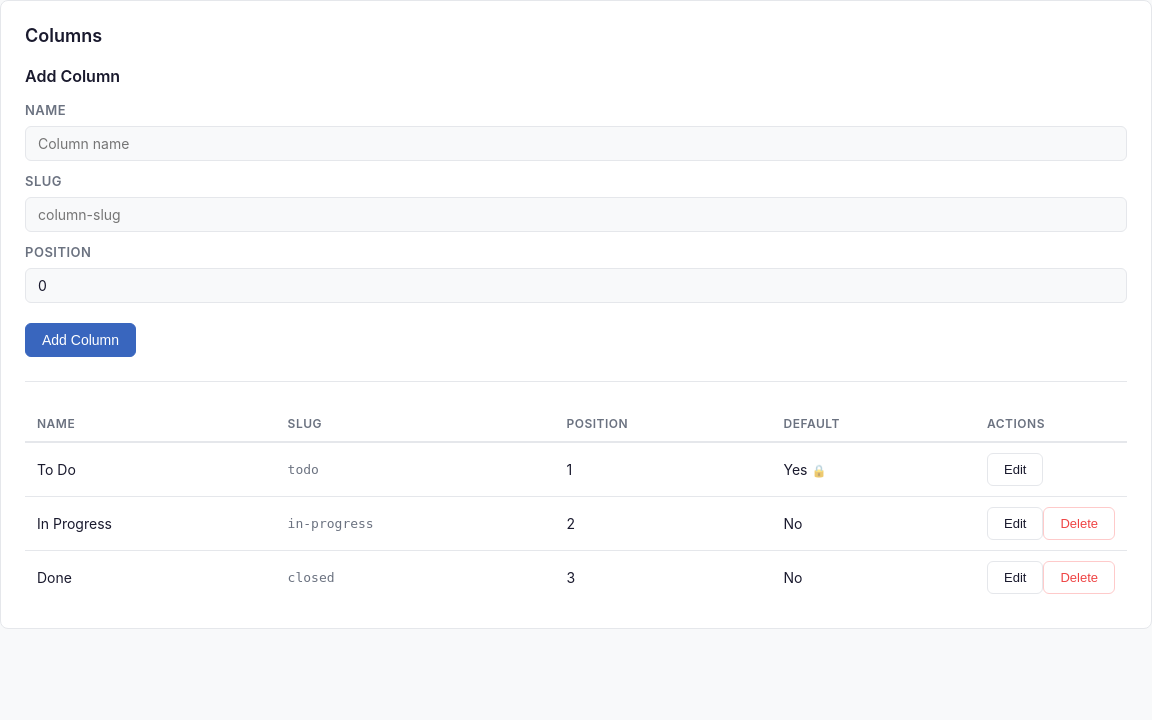
Test: ColumnsSettings › cancels editing when cancel button clicked
The image size is (1152, 720).
Step 1. Click the button with class "edit-btn" in the row of "To Do" → (1015, 470), box [987,453,1043,486]
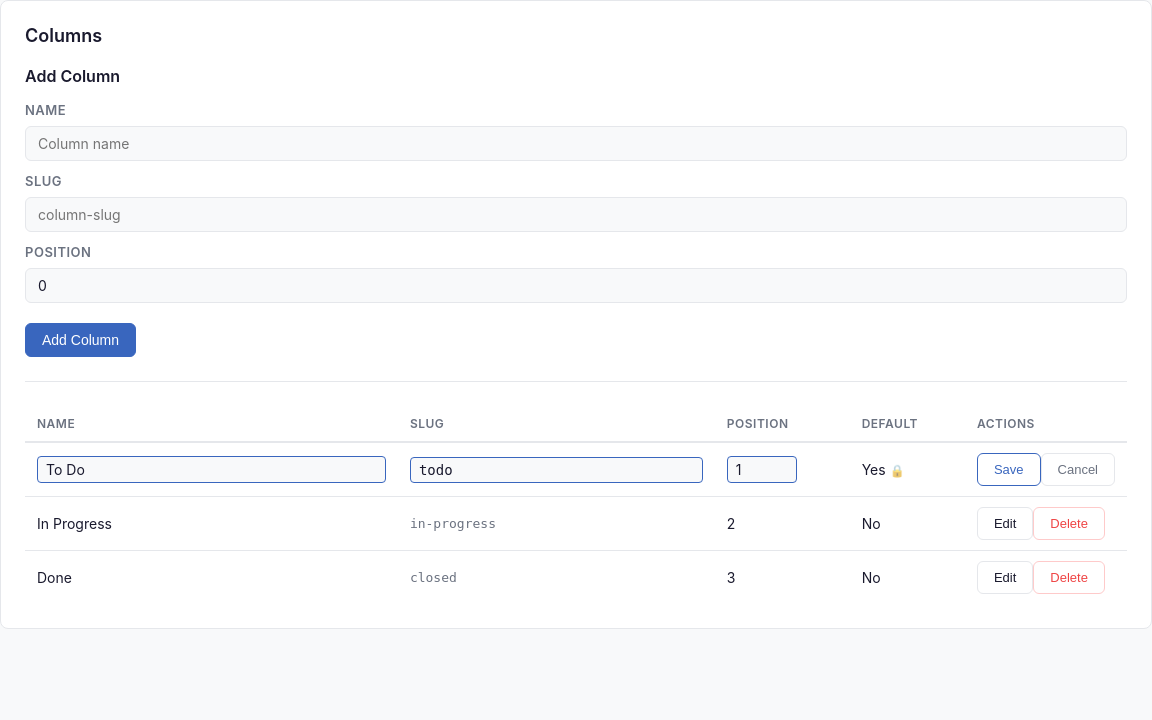
Check: the 1st field with class "cell-input" is shown, box [37,456,386,483]
Step 2. Click the button with class "cancel-btn" → (1078, 470), box [1040,453,1115,486]
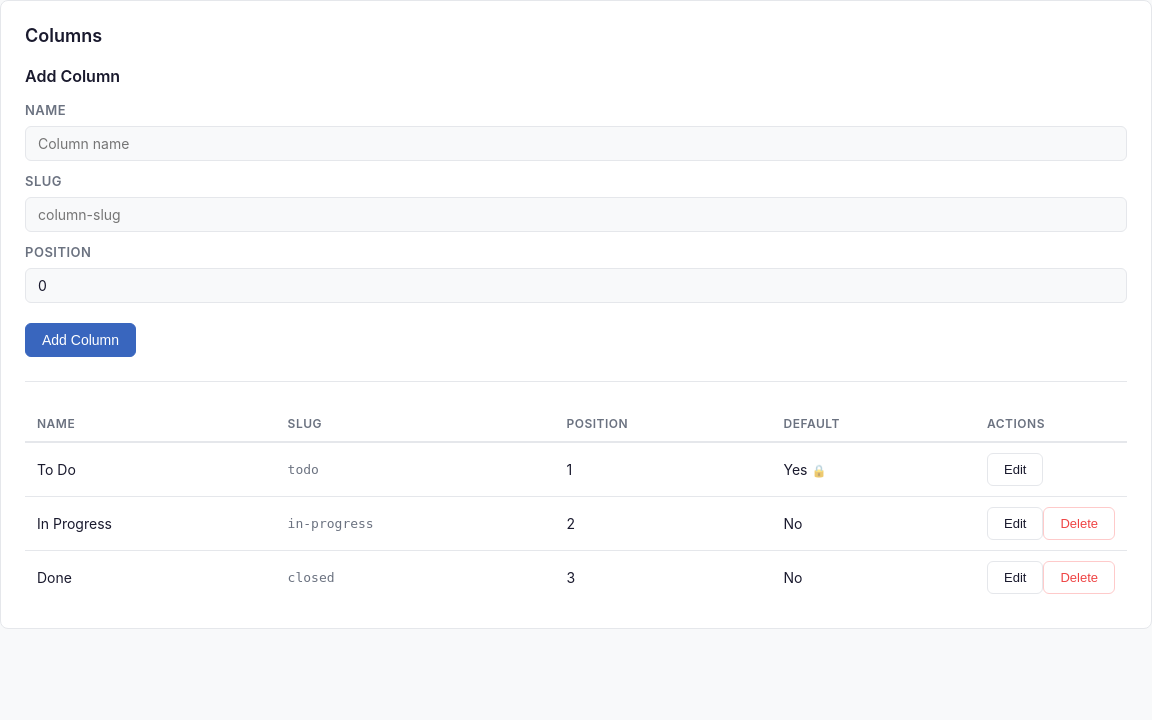
Check: no fields with class "cell-input" are shown
